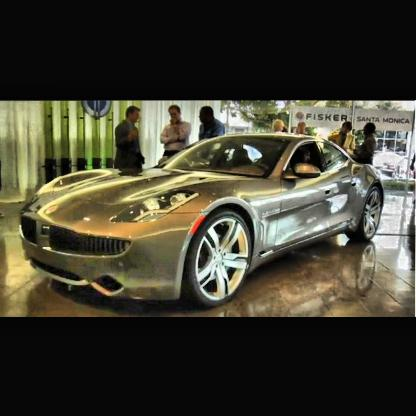Fisker Karma Sedan 2012: (22, 134, 386, 310)
